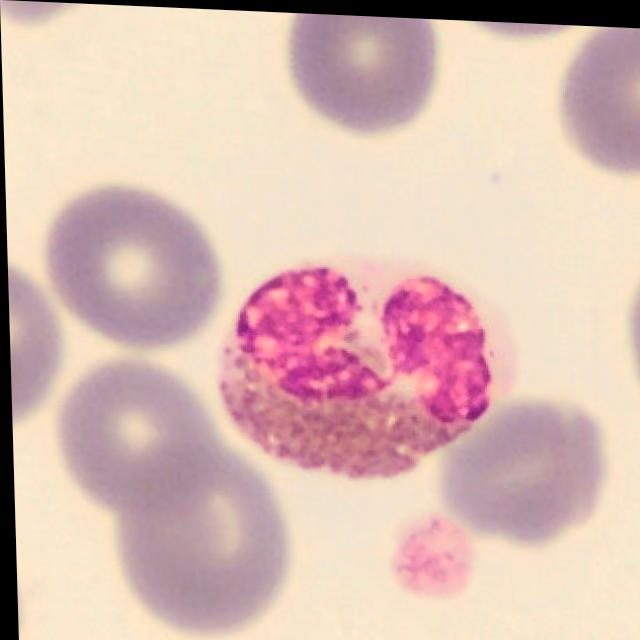Eosinofilo: (216, 255, 514, 477)
